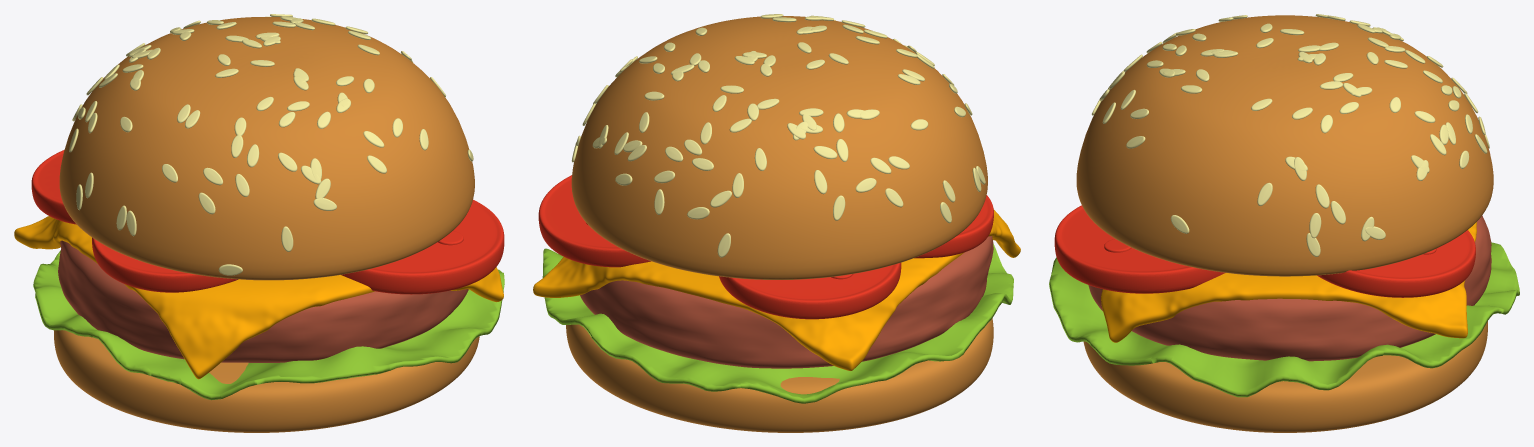
The model's file is Burger`.fbx.
The picture shows the model from 3 angles, left to right: view 1: azimuth 30°, elevation 25°; view 2: azimuth 150°, elevation 25°; view 3: azimuth 270°, elevation 25°; orthographic projection.
Parts seen in each view (by area): view 1: bred up.001, bred down.001, meat.001, green .002, Plane.003, tomato.004, tomato.005, tomato.006; view 2: bred up.001, meat.001, bred down.001, green .002, Plane.003, tomato.006, tomato.007, tomato.005; view 3: bred up.001, bred down.001, meat.001, green .002, Plane.003, tomato.004, tomato.007.
Part boxes in pixels (x1,y1,x2,y2): bred up.001: [59, 14, 474, 280]; bred down.001: [54, 330, 479, 432]; meat.001: [58, 240, 468, 362]; green .002: [33, 250, 504, 400]; Plane.003: [14, 216, 503, 379]; tomato.004: [341, 199, 504, 294]; tomato.005: [92, 237, 238, 292]; tomato.006: [31, 150, 76, 224]; bred up.001: [571, 14, 987, 279]; meat.001: [580, 236, 993, 368]; bred down.001: [566, 318, 993, 432]; green .002: [542, 243, 1013, 403]; Plane.003: [533, 209, 1020, 370]; tomato.006: [719, 262, 901, 319]; tomato.007: [538, 175, 650, 267]; tomato.005: [914, 195, 993, 258]; bred up.001: [1076, 14, 1493, 276]; bred down.001: [1083, 321, 1487, 432]; meat.001: [1088, 215, 1491, 361]; green .002: [1049, 242, 1519, 397]; Plane.003: [1101, 222, 1476, 342]; tomato.004: [1054, 205, 1225, 293]; tomato.007: [1317, 230, 1475, 297].
Size of the model in its own units: 271 by 190 by 273.
